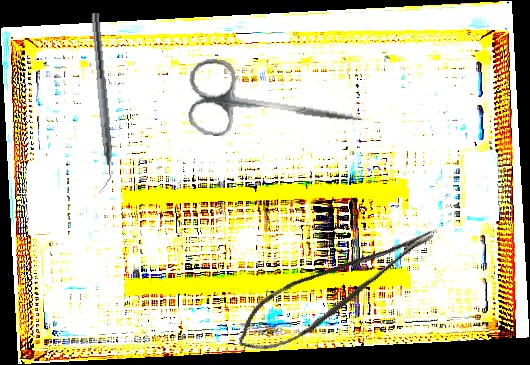Chopper: (78, 12, 119, 195)
Iris Scissors: (183, 56, 369, 154)
Micro Scissor: (223, 223, 452, 363)
